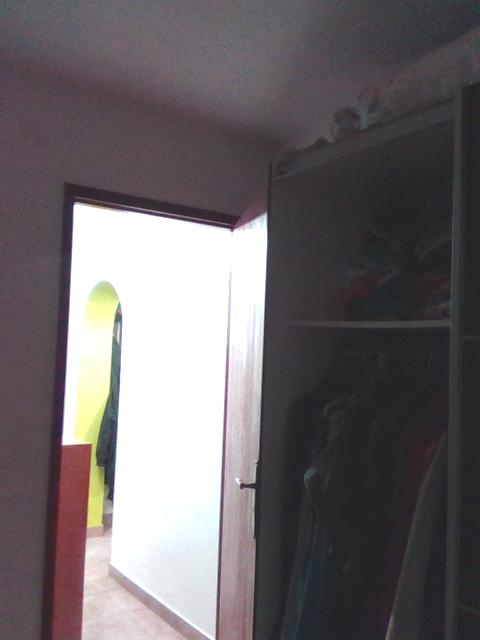open_door: (40, 179, 249, 638)
